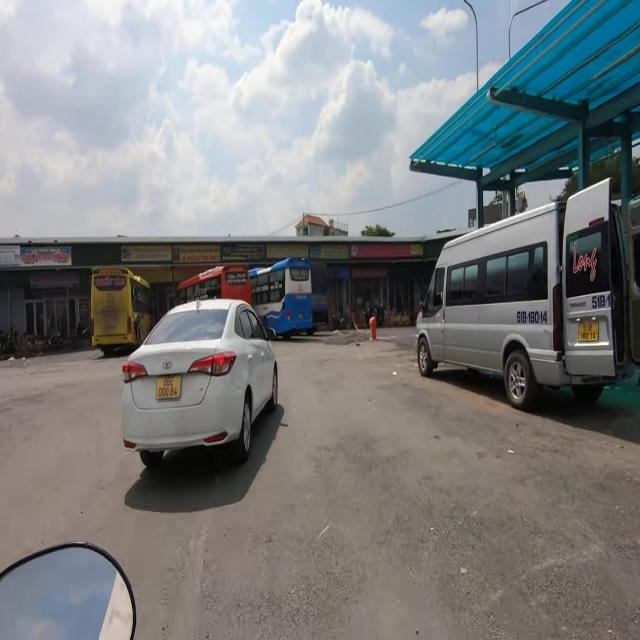bien_vang: (155, 372, 181, 402), (577, 319, 599, 343)
